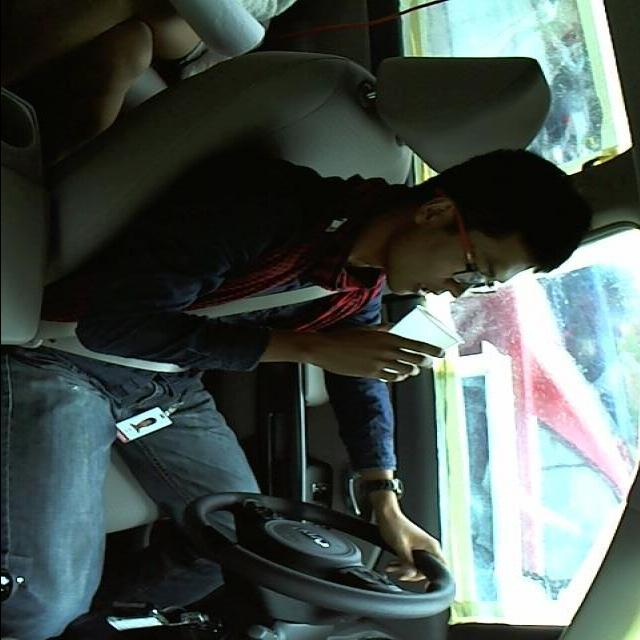drinking: (362, 306, 467, 385)
